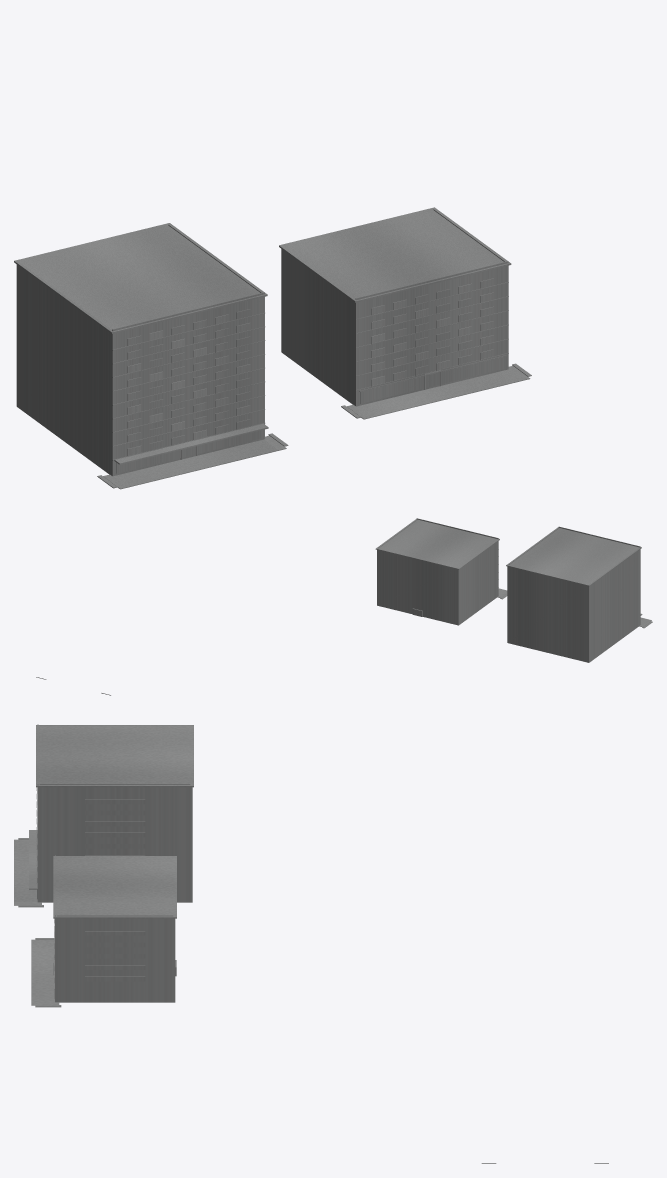
File: cell_2_-5_full.gltf
The picture shows the model from 3 angles, top to bottom: view 1: azimuth 30°, elevation 25°; view 2: azimuth 150°, elevation 25°; view 3: azimuth 270°, elevation 25°; orthographic projection. The views are drawn at different scales.
Parts seen in each view (by area): view 1: GIDI_VICTORIA_ISLAND_CBD_V2_MESH; view 2: GIDI_VICTORIA_ISLAND_CBD_V2_MESH; view 3: GIDI_VICTORIA_ISLAND_CBD_V2_MESH.
Boxes of the visible parts, left/top/right/bottom form: GIDI_VICTORIA_ISLAND_CBD_V2_MESH: left=14, top=207, right=531, bottom=489; GIDI_VICTORIA_ISLAND_CBD_V2_MESH: left=36, top=518, right=652, bottom=695; GIDI_VICTORIA_ISLAND_CBD_V2_MESH: left=14, top=724, right=608, bottom=1163.
Size of the model in its own units: 179 by 30.49 by 148.
Materials: 1 (1 with a texture image).
